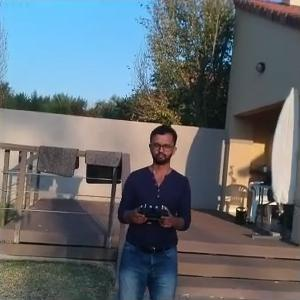follow: (108, 121, 194, 298)
